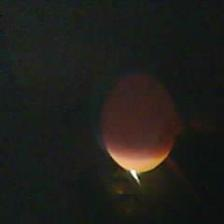fertile: (99, 73, 180, 172)
